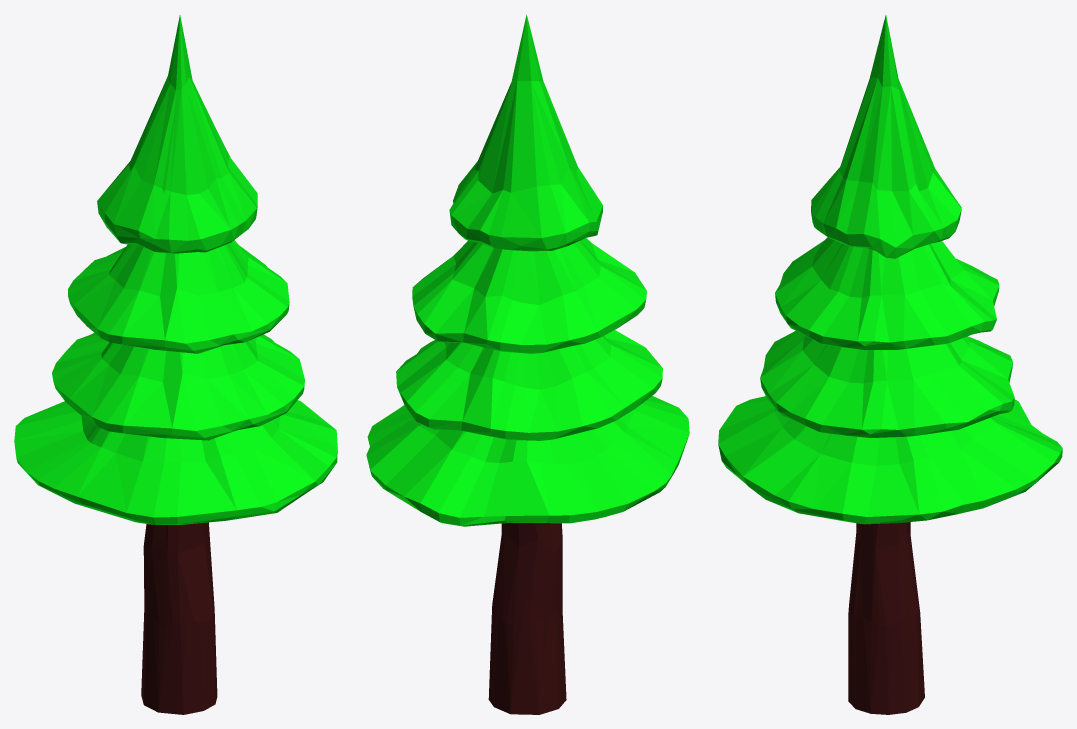
The model's file is Arbre4.fbx.
3 renders of one model, left to right at view 1: azimuth 30°, elevation 25°; view 2: azimuth 150°, elevation 25°; view 3: azimuth 270°, elevation 25°, orthographic.
Visible parts, largest first — view 1: Feuilles_LOD0, Tronc_LOD0; view 2: Feuilles_LOD0, Tronc_LOD0; view 3: Feuilles_LOD0, Tronc_LOD0.
Boxes of the visible parts, x1=… form: Feuilles_LOD0: x1=14, y1=15, x2=337, y2=524; Tronc_LOD0: x1=141, y1=522, x2=217, y2=714; Feuilles_LOD0: x1=366, y1=14, x2=689, y2=526; Tronc_LOD0: x1=488, y1=522, x2=566, y2=714; Feuilles_LOD0: x1=718, y1=15, x2=1062, y2=524; Tronc_LOD0: x1=848, y1=522, x2=924, y2=714.
Size of what is drawn, in the model's own units: 841 by 1975 by 900.
